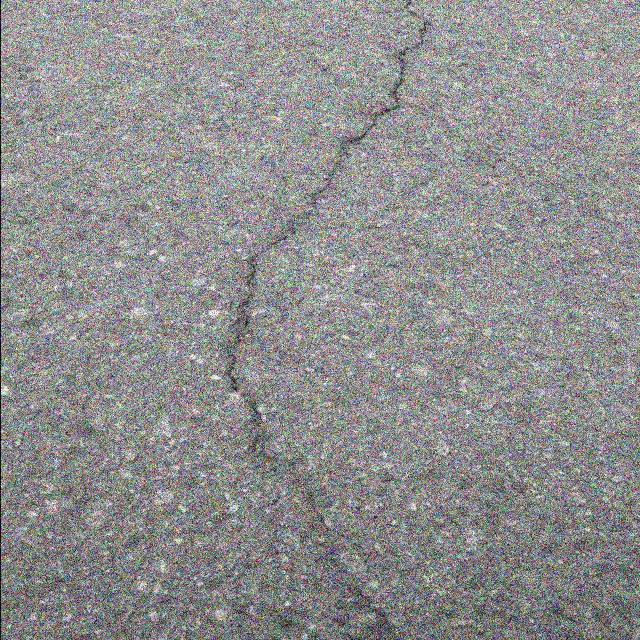SurfaceCrack: (189, 1, 454, 640)
